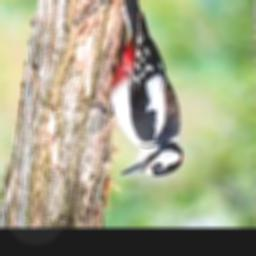Woodpecker: (110, 0, 183, 175)
